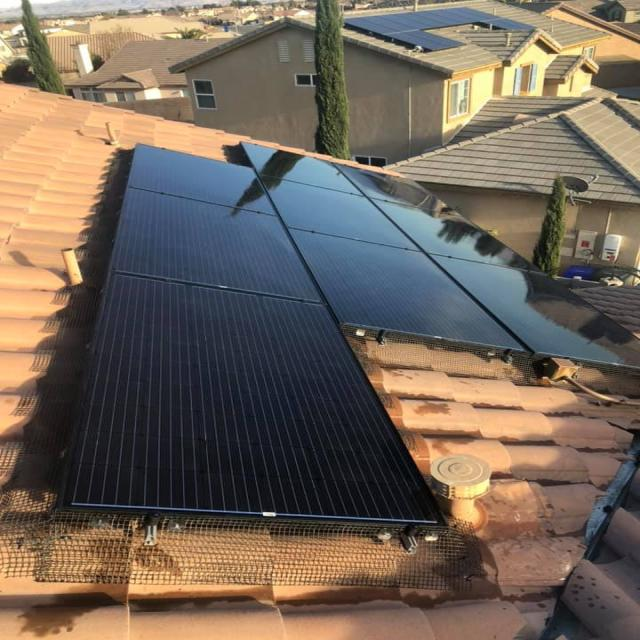clean-solar-panel: (60, 146, 440, 524), (247, 146, 638, 368)
